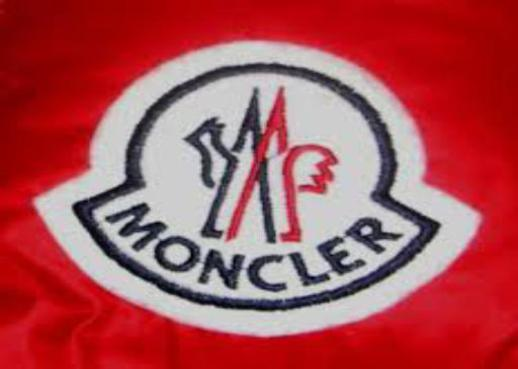MONCLER: (179, 79, 339, 251)
